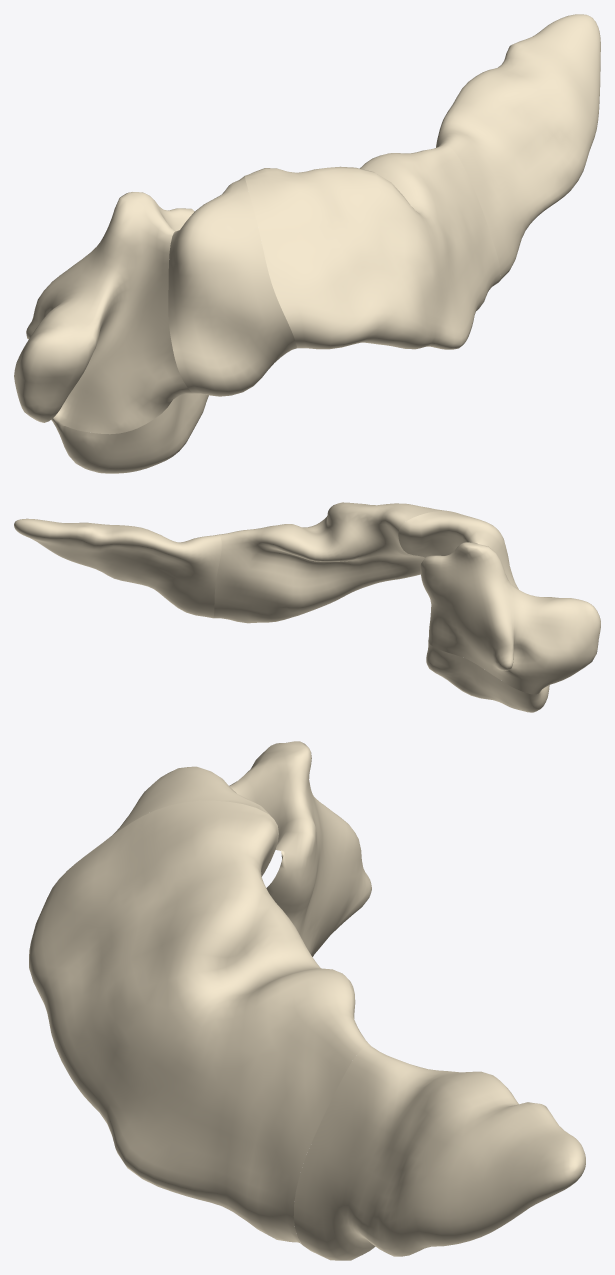
Rendered from hra-pancreas-female-v1.glb.
The picture shows the model from 3 angles, top to bottom: view 1: azimuth 30°, elevation 25°; view 2: azimuth 150°, elevation 25°; view 3: azimuth 270°, elevation 25°; orthographic projection. The views are drawn at different scales.
Parts seen in each view (by area): view 1: VH_F_body_of_pancreas, VH_F_head_of_pancreas, VH_F_tail_of_pancreas, VH_F_neck_of_pancreas, VH_F_uncinate_process; view 2: VH_F_body_of_pancreas, VH_F_head_of_pancreas, VH_F_tail_of_pancreas, VH_F_neck_of_pancreas, VH_F_uncinate_process; view 3: VH_F_body_of_pancreas, VH_F_tail_of_pancreas, VH_F_head_of_pancreas, VH_F_neck_of_pancreas.
Boxes of the visible parts, x1=… form: VH_F_body_of_pancreas: x1=245, y1=145, x2=500, y2=349; VH_F_head_of_pancreas: x1=14, y1=192, x2=194, y2=434; VH_F_tail_of_pancreas: x1=436, y1=14, x2=600, y2=282; VH_F_neck_of_pancreas: x1=168, y1=176, x2=296, y2=396; VH_F_uncinate_process: x1=53, y1=393, x2=208, y2=473; VH_F_body_of_pancreas: x1=213, y1=502, x2=446, y2=623; VH_F_head_of_pancreas: x1=420, y1=542, x2=600, y2=694; VH_F_tail_of_pancreas: x1=14, y1=518, x2=221, y2=618; VH_F_neck_of_pancreas: x1=398, y1=511, x2=518, y2=589; VH_F_uncinate_process: x1=426, y1=642, x2=549, y2=712; VH_F_body_of_pancreas: x1=29, y1=800, x2=371, y2=1244; VH_F_tail_of_pancreas: x1=293, y1=1046, x2=585, y2=1260; VH_F_head_of_pancreas: x1=199, y1=741, x2=371, y2=956; VH_F_neck_of_pancreas: x1=107, y1=766, x2=271, y2=839.
Bounding box in the file's own units: 0.1721 × 0.0579 × 0.0844.
